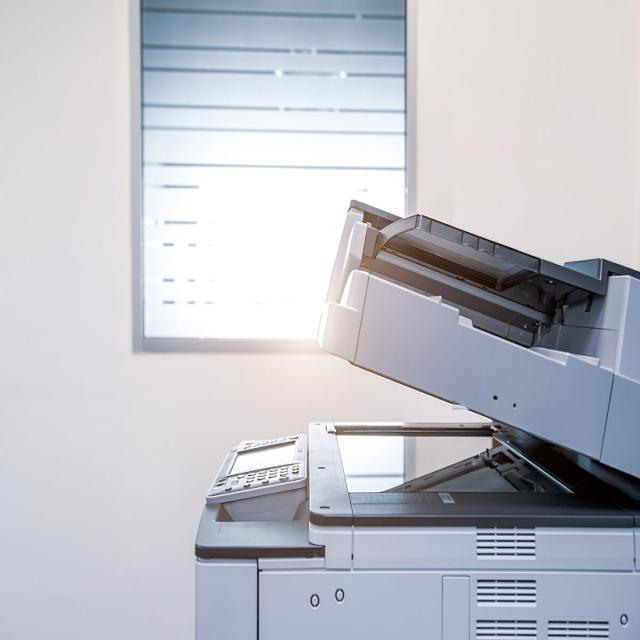printer: (193, 197, 639, 638)
